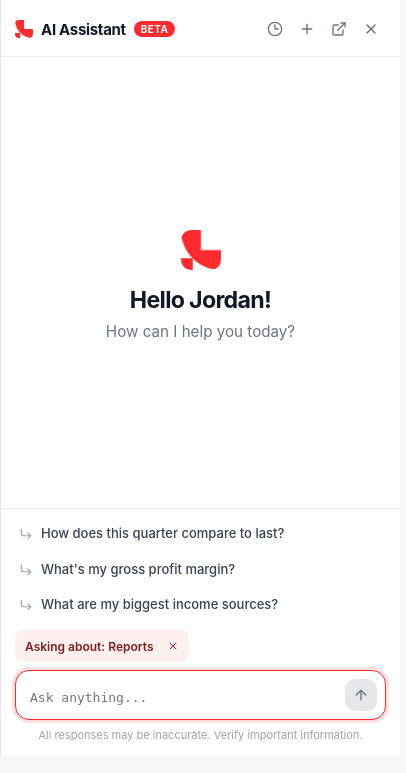
Test: AiAssistant › sends a suggestion, renders reply, table, and closed calculation accordion
The width and height of the screenshot is (406, 773).
Click the button "How does this quarter compare to last?": (200,534) [15,519,386,549]
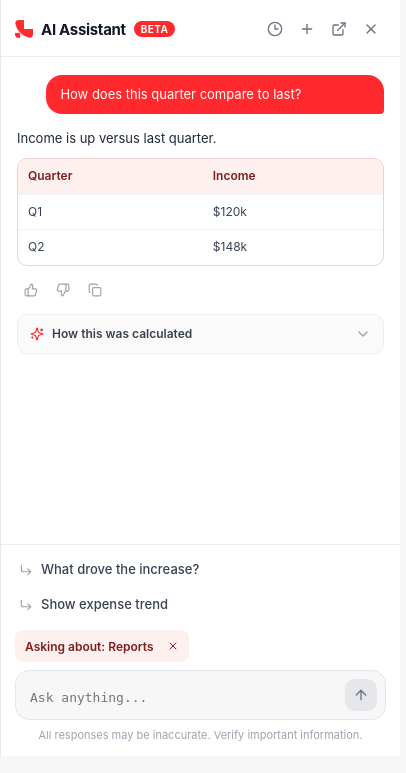
Expected: the text "via fixture" is not shown
Result: the text "Income is up versus last quarter." is shown at [17,130,216,146]
Result: the table is shown at [18,159,383,265]
Click the button "How this was calculated": (122,333) [18,315,383,353]
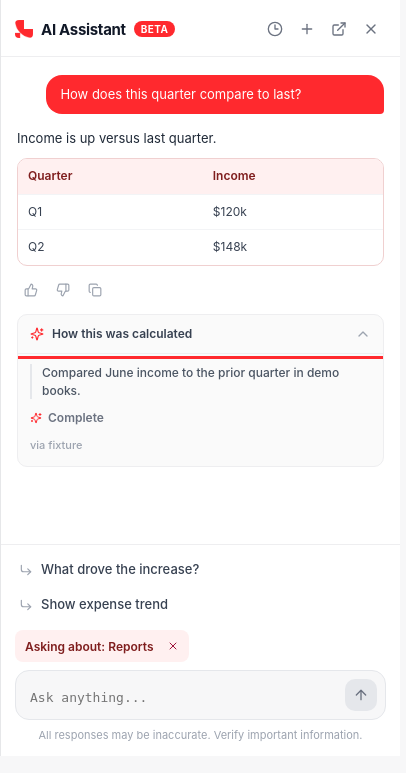
Result: the button "How this was calculated" is expanded at [18,315,383,353]
Result: the text "Compared June income to the prior quarter in demo books." is shown at [30,364,371,399]
Result: the text "via fixture" is shown at [30,438,82,452]
